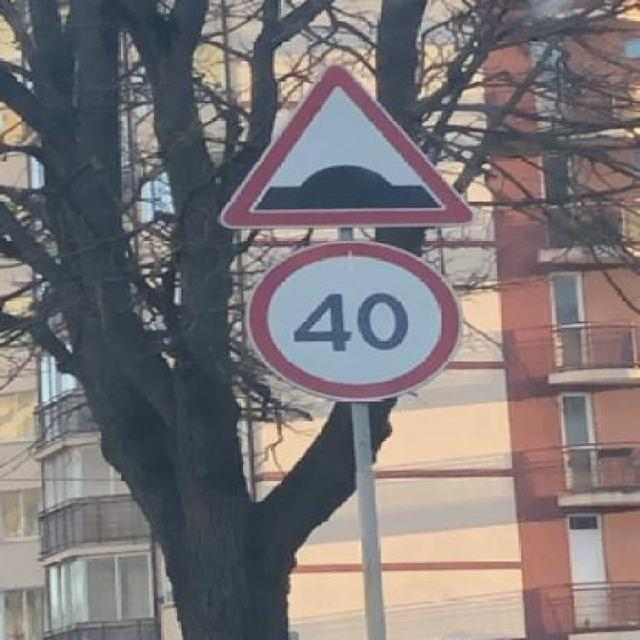forb_speed_over_40: (251, 245, 460, 402)
